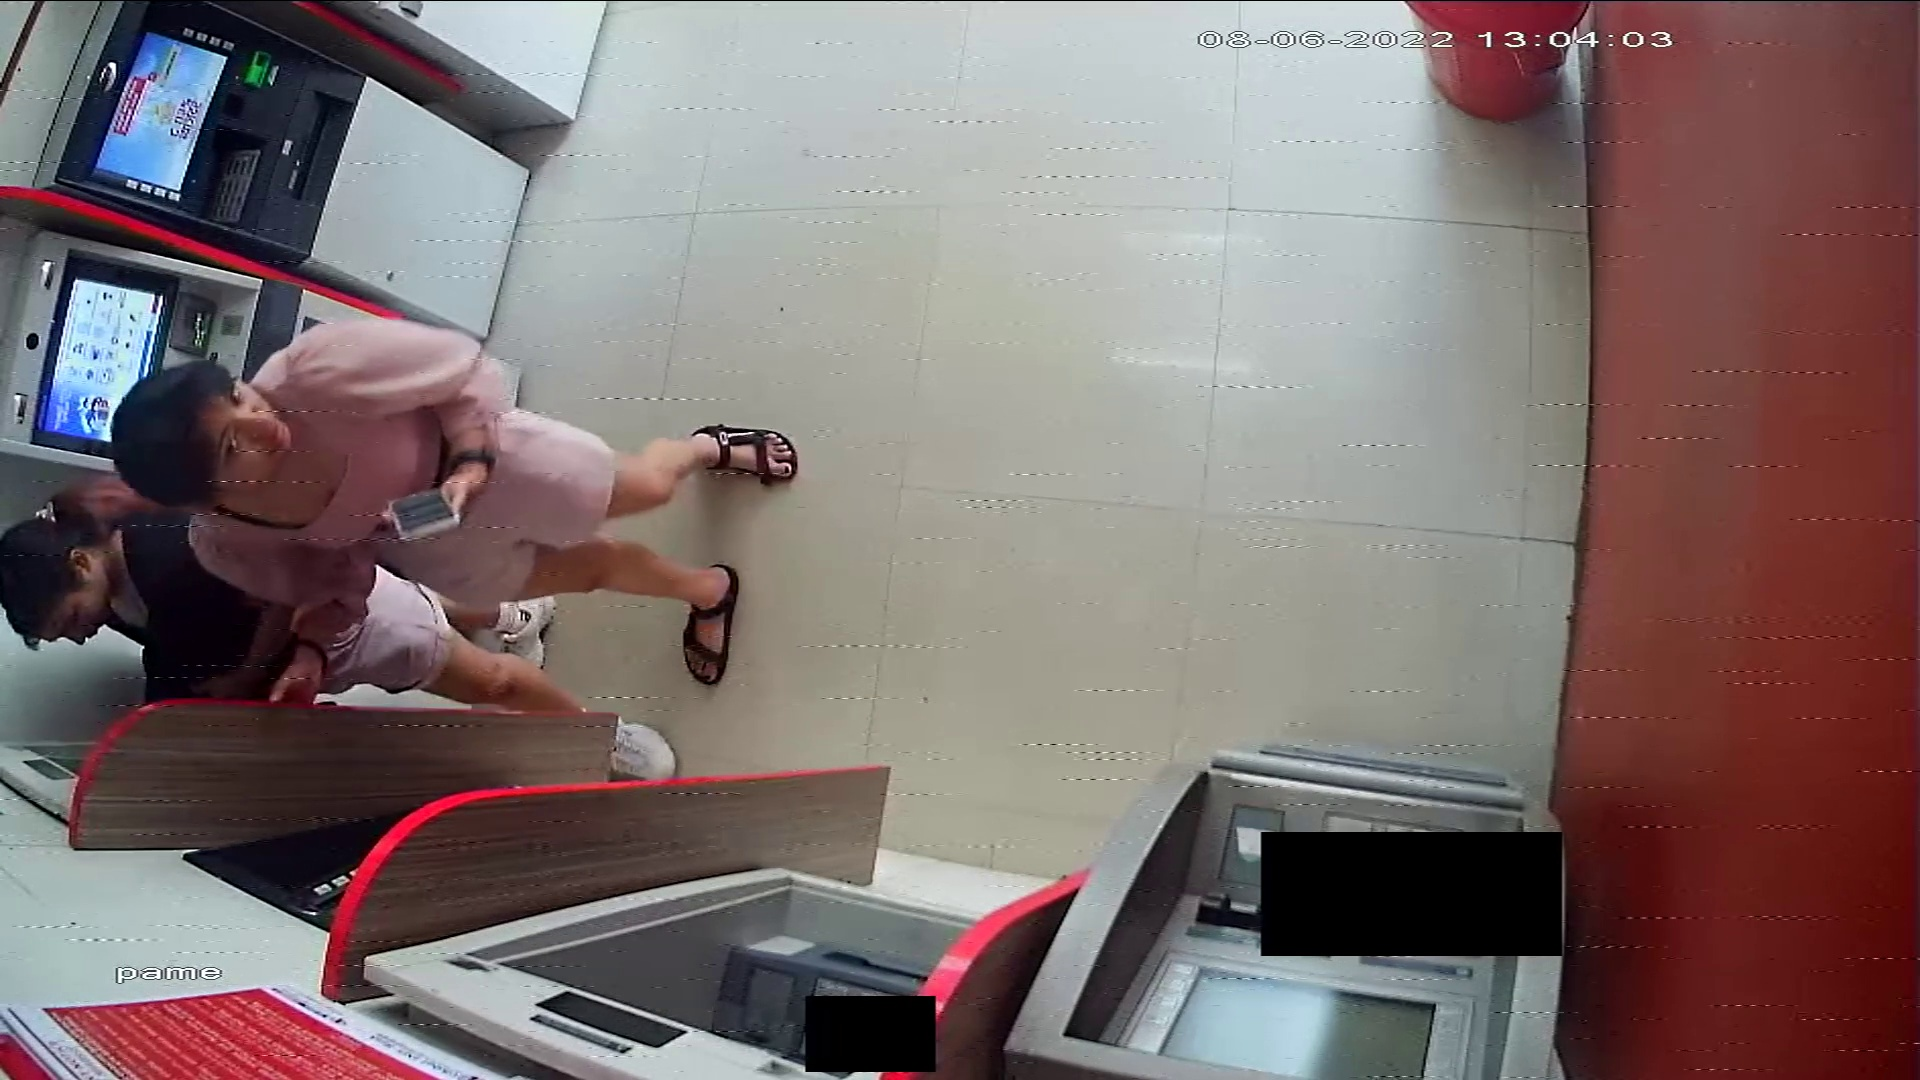person: (106, 310, 811, 681), (1, 489, 683, 795)
phone: (382, 491, 463, 539)
